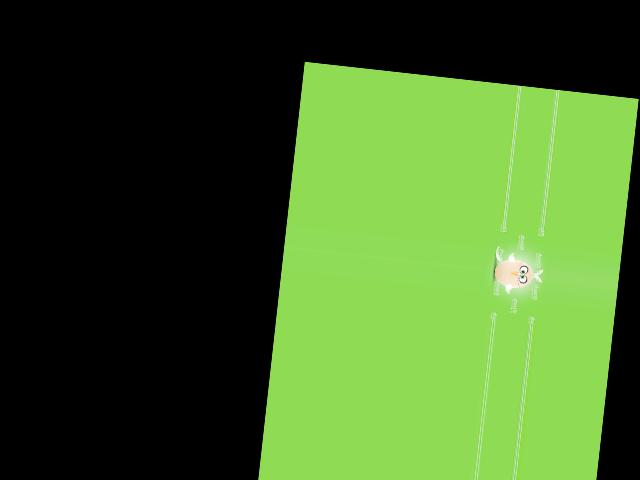egg: (492, 257, 534, 289)
